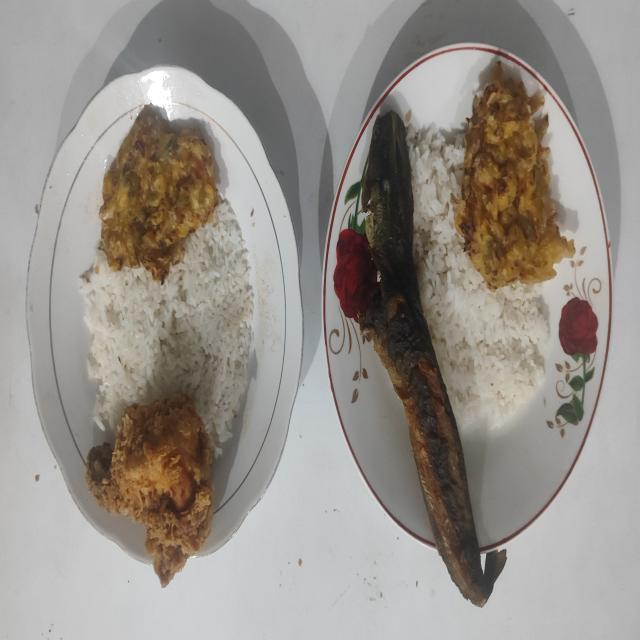nasi_putih: (80, 201, 256, 451), (408, 126, 551, 427)
